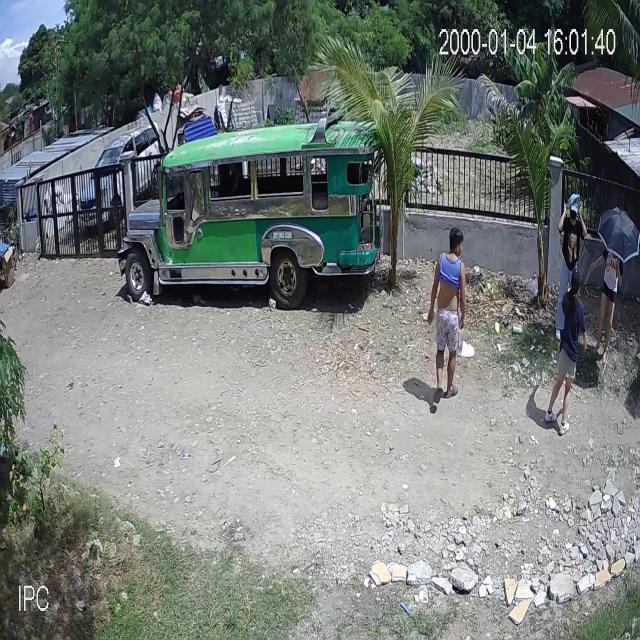standing: (546, 271, 586, 436), (555, 187, 585, 339), (592, 229, 624, 366)
walking: (426, 227, 471, 424)
